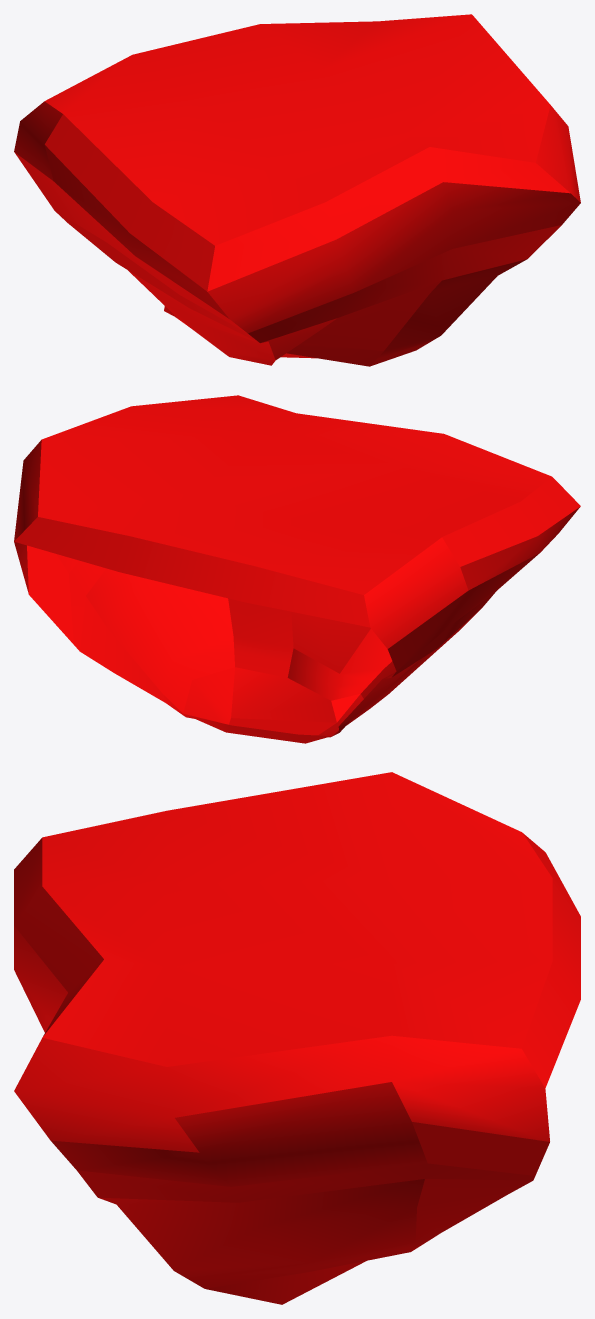
Rendered from Plat3_small_Mesh.FBX.
3 renders of one model, top to bottom at view 1: azimuth 30°, elevation 25°; view 2: azimuth 150°, elevation 25°; view 3: azimuth 270°, elevation 25°, orthographic. The views are drawn at different scales.
Visible parts, largest first — view 1: Plattform_small; view 2: Plattform_small; view 3: Plattform_small.
Boxes of the visible parts, left/top/right/bottom form: Plattform_small: left=14, top=14, right=580, bottom=366; Plattform_small: left=14, top=395, right=580, bottom=743; Plattform_small: left=14, top=772, right=580, bottom=1304.
Size of the model in its own units: 24 by 14.29 by 20.
